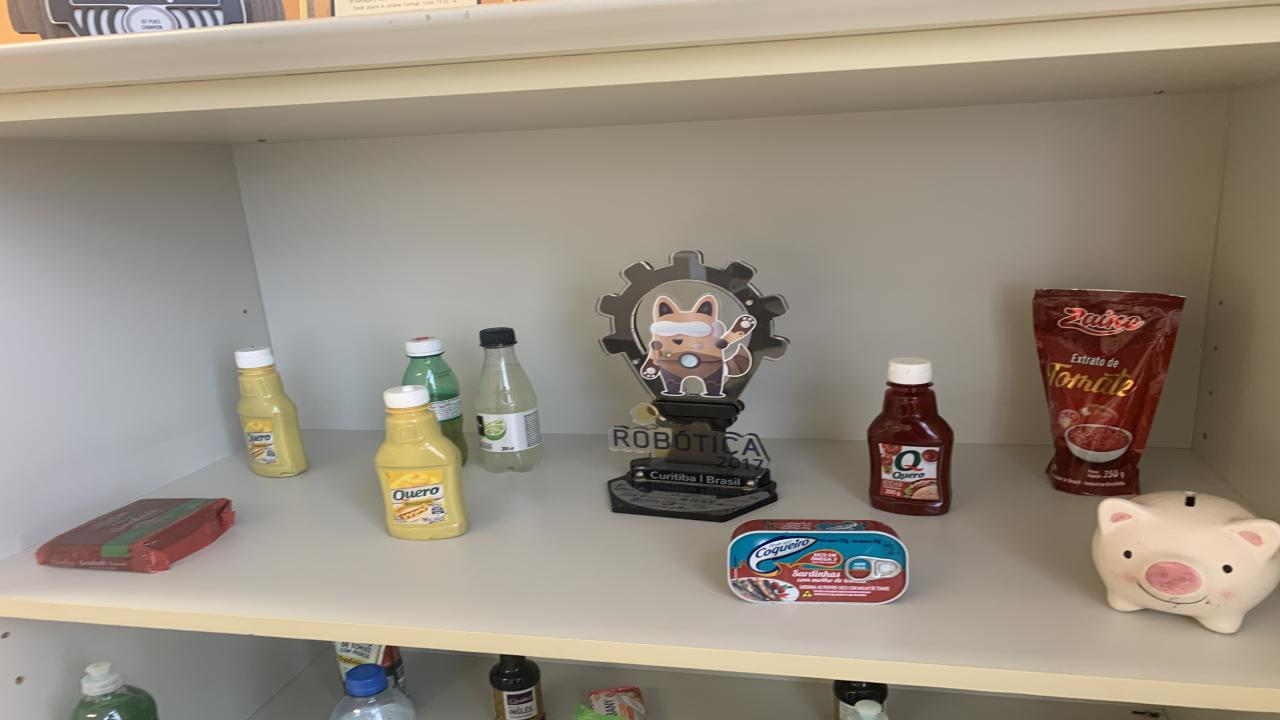Detergent-Cleanup_Items: (70, 662, 158, 720)
English_Sauce-Pantry_Items: (490, 654, 545, 720), (832, 681, 888, 705)
Guarana-Drinks: (402, 338, 468, 463), (475, 345, 538, 414)
Guava-Snacks: (35, 499, 235, 572)
Ketchup-Pantry_Items: (868, 356, 952, 516)
Mustard-Pantry_Items: (375, 384, 468, 540), (235, 347, 310, 476)
Pig_Safe-Miscellaneous: (1092, 491, 1280, 634)
Soap-Cleanup_Items: (590, 686, 645, 720), (575, 707, 585, 718)
Soda-Drinks: (475, 328, 542, 472), (490, 654, 540, 692)
Tomato_Sauce-Pantry_Items: (1032, 289, 1185, 495), (335, 641, 408, 694)
Trophy-Miscellaneous: (598, 251, 788, 521)
Tuna_Can-Pantry_Items: (728, 519, 910, 604)
Water_Bottle-Drinks: (330, 664, 415, 720)
